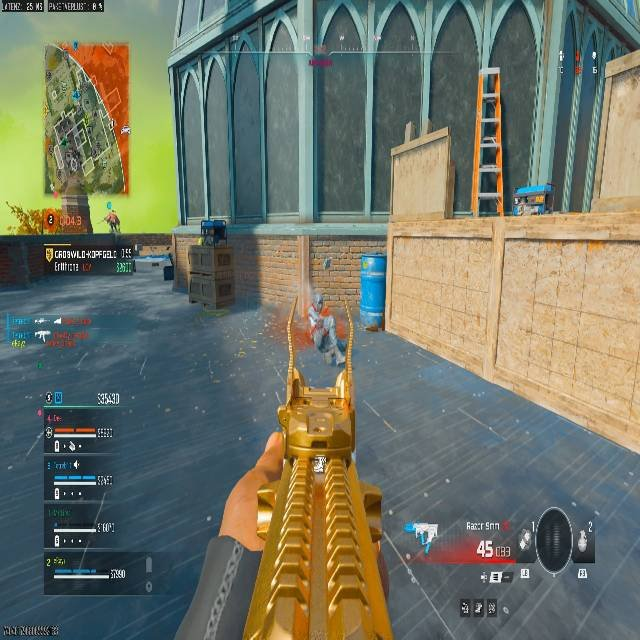head: (312, 293, 323, 308)
player: (306, 293, 342, 365), (104, 209, 120, 234)
